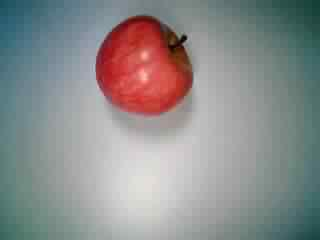apple: (93, 15, 197, 116)
